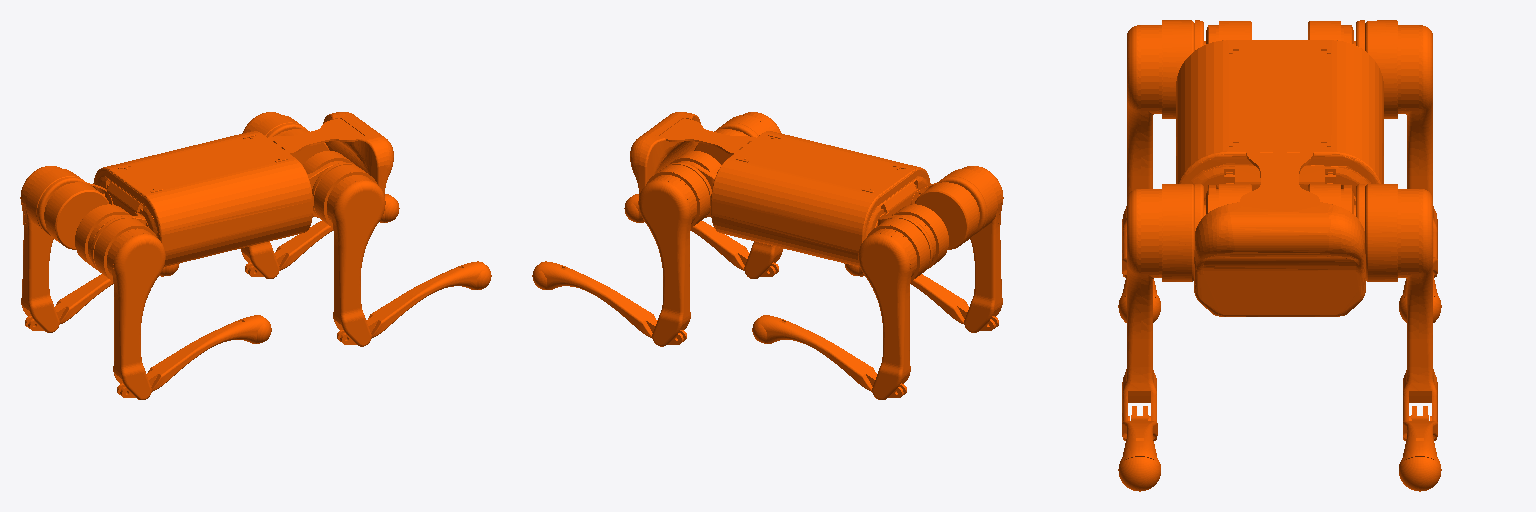
The robot description file, URDF, robot "a1":
<?xml version="1.0" encoding="utf-8"?>
<robot name="a1">
  <material name="black">
    <color rgba="0.0 0.0 0.0 1.0"/>
  </material>
  <material name="blue">
    <color rgba="0.0 0.0 0.8 1.0"/>
  </material>
  <material name="green">
    <color rgba="0.0 0.8 0.0 1.0"/>
  </material>
  <material name="grey">
    <color rgba="0.2 0.2 0.2 1.0"/>
  </material>
  <material name="silver">
    <color rgba="0.913725490196 0.913725490196 0.847058823529 1.0"/>
  </material>
  <material name="orange">
    <color rgba="1.0 0.423529411765 0.0392156862745 1.0"/>
  </material>
  <material name="brown">
    <color rgba="0.870588235294 0.811764705882 0.764705882353 1.0"/>
  </material>
  <material name="red">
    <color rgba="0.8 0.0 0.0 1.0"/>
  </material>
  <material name="white">
    <color rgba="1.0 1.0 1.0 1.0"/>
  </material>
  <link name="base">
    <visual>
      <origin rpy="0 0 0" xyz="0 0 0"/>
      <geometry>
        <box size="0.001 0.001 0.001"/>
      </geometry>
    </visual>
  </link>
  <joint name="floating_base" type="fixed">
    <origin rpy="0 0 0" xyz="0 0 0"/>
    <parent link="base"/>
    <child link="trunk"/>
  </joint>
  <link name="trunk">
    <visual>
      <origin rpy="0 0 0" xyz="0 0 0"/>
      <geometry>
        <mesh filename="trunk.stl" scale="1 1 1"/>
      </geometry>
      <material name="orange"/>
    </visual>
    <collision>
      <origin rpy="0 0 0" xyz="0 0 0"/>
      <geometry>
        <box size="0.267 0.194 0.114"/>
      </geometry>
    </collision>
    <inertial>
      <origin rpy="0 0 0" xyz="0.0 0.0041 -0.0005"/>
      <mass value="6.0"/>
      <inertia ixx="0.0158533" ixy="-3.66e-05" ixz="-6.11e-05" iyy="0.0377999" iyz="-2.75e-05" izz="0.0456542"/>
    </inertial>
  </link>
  <joint name="imu_joint" type="fixed">
    <parent link="trunk"/>
    <child link="imu_link"/>
    <origin rpy="0 0 0" xyz="0 0 0"/>
  </joint>
  <link name="imu_link">
    <inertial>
      <mass value="0.001"/>
      <origin rpy="0 0 0" xyz="0 0 0"/>
      <inertia ixx="0.0001" ixy="0" ixz="0" iyy="0.0001" iyz="0" izz="0.0001"/>
    </inertial>
    <visual>
      <origin rpy="0 0 0" xyz="0 0 0"/>
      <geometry>
        <box size="0.001 0.001 0.001"/>
      </geometry>
      <material name="red"/>
    </visual>
    <collision>
      <origin rpy="0 0 0" xyz="0 0 0"/>
      <geometry>
        <box size=".001 .001 .001"/>
      </geometry>
    </collision>
  </link>
  <joint name="FR_hip_joint" type="revolute">
    <origin rpy="0 0 0" xyz="0.1805 -0.047 0"/>
    <parent link="trunk"/>
    <child link="FR_hip"/>
    <axis xyz="1 0 0"/>
    <dynamics damping="0.01" friction="0.2"/>
    <limit effort="33.5" lower="-0.802851455917" upper="0.802851455917" velocity="21"/>
  </joint>
  <link name="FR_hip">
    <visual>
      <origin rpy="3.14159265359 0 0" xyz="0 0 0"/>
      <geometry>
        <mesh filename="hip.stl" scale="1 1 1"/>
      </geometry>
      <material name="orange"/>
    </visual>
    <collision>
      <origin rpy="1.57079632679 0 0" xyz="0 0 0"/>
      <geometry>
        <cylinder length="0.04" radius="0.046"/>
      </geometry>
    </collision>
    <inertial>
      <origin rpy="0 0 0" xyz="-0.003311 -0.000635 3.1e-05"/>
      <mass value="0.696"/>
      <inertia ixx="0.000469246" ixy="9.409e-06" ixz="-3.42e-07" iyy="0.00080749" iyz="4.66e-07" izz="0.000552929"/>
    </inertial>
  </link>
  <joint name="FR_hip_fixed" type="fixed">
    <origin rpy="0 0 0" xyz="0 -0.081 0"/>
    <parent link="FR_hip"/>
    <child link="FR_thigh_shoulder"/>
  </joint>
  <!-- this link is only for collision -->
  <link name="FR_thigh_shoulder">
    <collision>
      <origin rpy="1.57079632679 0 0" xyz="0 0 0"/>
      <geometry>
        <cylinder length="0.032" radius="0.041"/>
      </geometry>
    </collision>
  </link>
  <joint name="FR_thigh_joint" type="revolute">
    <origin rpy="0 0 0" xyz="0 -0.0838 0"/>
    <parent link="FR_hip"/>
    <child link="FR_thigh"/>
    <axis xyz="0 1 0"/>
    <dynamics damping="0.01" friction="0.2"/>
    <limit effort="33.5" lower="-1.0471975512" upper="4.18879020479" velocity="21"/>
  </joint>
  <link name="FR_thigh">
    <visual>
      <origin rpy="0 0 0" xyz="0 0 0"/>
      <geometry>
        <mesh filename="thigh_mirror.stl" scale="1 1 1"/>
      </geometry>
      <material name="orange"/>
    </visual>
    <collision>
      <origin rpy="0 1.57079632679 0" xyz="0 0 -0.1"/>
      <geometry>
        <box size="0.2 0.0245 0.034"/>
      </geometry>
    </collision>
    <inertial>
      <origin rpy="0 0 0" xyz="-0.003237 0.022327 -0.027326"/>
      <mass value="1.013"/>
      <inertia ixx="0.005529065" ixy="-4.825e-06" ixz="0.000343869" iyy="0.005139339" iyz="-2.2448e-05" izz="0.001367788"/>
    </inertial>
  </link>
  <joint name="FR_calf_joint" type="revolute">
    <origin rpy="0 0 0" xyz="0 0 -0.2"/>
    <parent link="FR_thigh"/>
    <child link="FR_calf"/>
    <axis xyz="0 1 0"/>
    <dynamics damping="0.01" friction="0.2"/>
    <limit effort="33.5" lower="-2.69653369433" upper="-0.916297857297" velocity="21"/>
  </joint>
  <link name="FR_calf">
    <visual>
      <origin rpy="0 0 0" xyz="0 0 0"/>
      <geometry>
        <mesh filename="calf.stl" scale="1 1 1"/>
      </geometry>
      <material name="orange"/>
    </visual>
    <collision>
      <origin rpy="0 1.57079632679 0" xyz="0 0 -0.1"/>
      <geometry>
        <box size="0.2 0.016 0.016"/>
      </geometry>
    </collision>
    <inertial>
      <origin rpy="0 0 0" xyz="0.006435 0.0 -0.107388"/>
      <mass value="0.166"/>
      <inertia ixx="0.002997972" ixy="0.0" ixz="-0.000141163" iyy="0.003014022" iyz="0.0" izz="3.2426e-05"/>
    </inertial>
  </link>
  <joint name="FR_foot_fixed" type="fixed">
    <origin rpy="0 0 0" xyz="0 0 -0.2"/>
    <parent link="FR_calf"/>
    <child link="FR_foot"/>
  </joint>
  <link name="FR_foot">
    <visual>
      <origin rpy="0 0 0" xyz="0 0 0"/>
      <geometry>
        <sphere radius="0.01"/>
      </geometry>
      <material name="orange"/>
    </visual>
    <collision>
      <origin rpy="0 0 0" xyz="0 0 0"/>
      <geometry>
        <sphere radius="0.02"/>
      </geometry>
    </collision>
    <inertial>
      <mass value="0.06"/>
      <inertia ixx="9.6e-06" ixy="0.0" ixz="0.0" iyy="9.6e-06" iyz="0.0" izz="9.6e-06"/>
    </inertial>
  </link>
  <transmission name="FR_hip_tran">
    <type>transmission_interface/SimpleTransmission</type>
    <joint name="FR_hip_joint">
      <hardwareInterface>hardware_interface/EffortJointInterface</hardwareInterface>
    </joint>
    <actuator name="FR_hip_motor">
      <hardwareInterface>hardware_interface/EffortJointInterface</hardwareInterface>
      <mechanicalReduction>1</mechanicalReduction>
    </actuator>
  </transmission>
  <transmission name="FR_thigh_tran">
    <type>transmission_interface/SimpleTransmission</type>
    <joint name="FR_thigh_joint">
      <hardwareInterface>hardware_interface/EffortJointInterface</hardwareInterface>
    </joint>
    <actuator name="FR_thigh_motor">
      <hardwareInterface>hardware_interface/EffortJointInterface</hardwareInterface>
      <mechanicalReduction>1</mechanicalReduction>
    </actuator>
  </transmission>
  <transmission name="FR_calf_tran">
    <type>transmission_interface/SimpleTransmission</type>
    <joint name="FR_calf_joint">
      <hardwareInterface>hardware_interface/EffortJointInterface</hardwareInterface>
    </joint>
    <actuator name="FR_calf_motor">
      <hardwareInterface>hardware_interface/EffortJointInterface</hardwareInterface>
      <mechanicalReduction>1</mechanicalReduction>
    </actuator>
  </transmission>
  <joint name="FL_hip_joint" type="revolute">
    <origin rpy="0 0 0" xyz="0.1805 0.047 0"/>
    <parent link="trunk"/>
    <child link="FL_hip"/>
    <axis xyz="1 0 0"/>
    <dynamics damping="0.01" friction="0.2"/>
    <limit effort="33.5" lower="-0.802851455917" upper="0.802851455917" velocity="21"/>
  </joint>
  <link name="FL_hip">
    <visual>
      <origin rpy="0 0 0" xyz="0 0 0"/>
      <geometry>
        <mesh filename="hip.stl" scale="1 1 1"/>
      </geometry>
      <material name="orange"/>
    </visual>
    <collision>
      <origin rpy="1.57079632679 0 0" xyz="0 0 0"/>
      <geometry>
        <cylinder length="0.04" radius="0.046"/>
      </geometry>
    </collision>
    <inertial>
      <origin rpy="0 0 0" xyz="-0.003311 0.000635 3.1e-05"/>
      <mass value="0.696"/>
      <inertia ixx="0.000469246" ixy="-9.409e-06" ixz="-3.42e-07" iyy="0.00080749" iyz="-4.66e-07" izz="0.000552929"/>
    </inertial>
  </link>
  <joint name="FL_hip_fixed" type="fixed">
    <origin rpy="0 0 0" xyz="0 0.081 0"/>
    <parent link="FL_hip"/>
    <child link="FL_thigh_shoulder"/>
  </joint>
  <!-- this link is only for collision -->
  <link name="FL_thigh_shoulder">
    <collision>
      <origin rpy="1.57079632679 0 0" xyz="0 0 0"/>
      <geometry>
        <cylinder length="0.032" radius="0.041"/>
      </geometry>
    </collision>
  </link>
  <joint name="FL_thigh_joint" type="revolute">
    <origin rpy="0 0 0" xyz="0 0.0838 0"/>
    <parent link="FL_hip"/>
    <child link="FL_thigh"/>
    <axis xyz="0 1 0"/>
    <dynamics damping="0.01" friction="0.2"/>
    <limit effort="33.5" lower="-1.0471975512" upper="4.18879020479" velocity="21"/>
  </joint>
  <link name="FL_thigh">
    <visual>
      <origin rpy="0 0 0" xyz="0 0 0"/>
      <geometry>
        <mesh filename="thigh.stl" scale="1 1 1"/>
      </geometry>
      <material name="orange"/>
    </visual>
    <collision>
      <origin rpy="0 1.57079632679 0" xyz="0 0 -0.1"/>
      <geometry>
        <box size="0.2 0.0245 0.034"/>
      </geometry>
    </collision>
    <inertial>
      <origin rpy="0 0 0" xyz="-0.003237 -0.022327 -0.027326"/>
      <mass value="1.013"/>
      <inertia ixx="0.005529065" ixy="4.825e-06" ixz="0.000343869" iyy="0.005139339" iyz="2.2448e-05" izz="0.001367788"/>
    </inertial>
  </link>
  <joint name="FL_calf_joint" type="revolute">
    <origin rpy="0 0 0" xyz="0 0 -0.2"/>
    <parent link="FL_thigh"/>
    <child link="FL_calf"/>
    <axis xyz="0 1 0"/>
    <dynamics damping="0.01" friction="0.2"/>
    <limit effort="33.5" lower="-2.69653369433" upper="-0.916297857297" velocity="21"/>
  </joint>
  <link name="FL_calf">
    <visual>
      <origin rpy="0 0 0" xyz="0 0 0"/>
      <geometry>
        <mesh filename="calf.stl" scale="1 1 1"/>
      </geometry>
      <material name="orange"/>
    </visual>
    <collision>
      <origin rpy="0 1.57079632679 0" xyz="0 0 -0.1"/>
      <geometry>
        <box size="0.2 0.016 0.016"/>
      </geometry>
    </collision>
    <inertial>
      <origin rpy="0 0 0" xyz="0.006435 0.0 -0.107388"/>
      <mass value="0.166"/>
      <inertia ixx="0.002997972" ixy="0.0" ixz="-0.000141163" iyy="0.003014022" iyz="0.0" izz="3.2426e-05"/>
    </inertial>
  </link>
  <joint name="FL_foot_fixed" type="fixed">
    <origin rpy="0 0 0" xyz="0 0 -0.2"/>
    <parent link="FL_calf"/>
    <child link="FL_foot"/>
  </joint>
  <link name="FL_foot">
    <visual>
      <origin rpy="0 0 0" xyz="0 0 0"/>
      <geometry>
        <sphere radius="0.01"/>
      </geometry>
      <material name="orange"/>
    </visual>
    <collision>
      <origin rpy="0 0 0" xyz="0 0 0"/>
      <geometry>
        <sphere radius="0.02"/>
      </geometry>
    </collision>
    <inertial>
      <mass value="0.06"/>
      <inertia ixx="9.6e-06" ixy="0.0" ixz="0.0" iyy="9.6e-06" iyz="0.0" izz="9.6e-06"/>
    </inertial>
  </link>
  <transmission name="FL_hip_tran">
    <type>transmission_interface/SimpleTransmission</type>
    <joint name="FL_hip_joint">
      <hardwareInterface>hardware_interface/EffortJointInterface</hardwareInterface>
    </joint>
    <actuator name="FL_hip_motor">
      <hardwareInterface>hardware_interface/EffortJointInterface</hardwareInterface>
      <mechanicalReduction>1</mechanicalReduction>
    </actuator>
  </transmission>
  <transmission name="FL_thigh_tran">
    <type>transmission_interface/SimpleTransmission</type>
    <joint name="FL_thigh_joint">
      <hardwareInterface>hardware_interface/EffortJointInterface</hardwareInterface>
    </joint>
    <actuator name="FL_thigh_motor">
      <hardwareInterface>hardware_interface/EffortJointInterface</hardwareInterface>
      <mechanicalReduction>1</mechanicalReduction>
    </actuator>
  </transmission>
  <transmission name="FL_calf_tran">
    <type>transmission_interface/SimpleTransmission</type>
    <joint name="FL_calf_joint">
      <hardwareInterface>hardware_interface/EffortJointInterface</hardwareInterface>
    </joint>
    <actuator name="FL_calf_motor">
      <hardwareInterface>hardware_interface/EffortJointInterface</hardwareInterface>
      <mechanicalReduction>1</mechanicalReduction>
    </actuator>
  </transmission>
  <joint name="RR_hip_joint" type="revolute">
    <origin rpy="0 0 0" xyz="-0.1805 -0.047 0"/>
    <parent link="trunk"/>
    <child link="RR_hip"/>
    <axis xyz="1 0 0"/>
    <dynamics damping="0.01" friction="0.2"/>
    <limit effort="33.5" lower="-0.802851455917" upper="0.802851455917" velocity="21"/>
  </joint>
  <link name="RR_hip">
    <visual>
      <origin rpy="3.14159265359 3.14159265359 0" xyz="0 0 0"/>
      <geometry>
        <mesh filename="hip.stl" scale="1 1 1"/>
      </geometry>
      <material name="orange"/>
    </visual>
    <collision>
      <origin rpy="1.57079632679 0 0" xyz="0 0 0"/>
      <geometry>
        <cylinder length="0.04" radius="0.046"/>
      </geometry>
    </collision>
    <inertial>
      <origin rpy="0 0 0" xyz="0.003311 -0.000635 3.1e-05"/>
      <mass value="0.696"/>
      <inertia ixx="0.000469246" ixy="-9.409e-06" ixz="3.42e-07" iyy="0.00080749" iyz="4.66e-07" izz="0.000552929"/>
    </inertial>
  </link>
  <joint name="RR_hip_fixed" type="fixed">
    <origin rpy="0 0 0" xyz="0 -0.081 0"/>
    <parent link="RR_hip"/>
    <child link="RR_thigh_shoulder"/>
  </joint>
  <!-- this link is only for collision -->
  <link name="RR_thigh_shoulder">
    <collision>
      <origin rpy="1.57079632679 0 0" xyz="0 0 0"/>
      <geometry>
        <cylinder length="0.032" radius="0.041"/>
      </geometry>
    </collision>
  </link>
  <joint name="RR_thigh_joint" type="revolute">
    <origin rpy="0 0 0" xyz="0 -0.0838 0"/>
    <parent link="RR_hip"/>
    <child link="RR_thigh"/>
    <axis xyz="0 1 0"/>
    <dynamics damping="0.01" friction="0.2"/>
    <limit effort="33.5" lower="-1.0471975512" upper="4.18879020479" velocity="21"/>
  </joint>
  <link name="RR_thigh">
    <visual>
      <origin rpy="0 0 0" xyz="0 0 0"/>
      <geometry>
        <mesh filename="thigh_mirror.stl" scale="1 1 1"/>
      </geometry>
      <material name="orange"/>
    </visual>
    <collision>
      <origin rpy="0 1.57079632679 0" xyz="0 0 -0.1"/>
      <geometry>
        <box size="0.2 0.0245 0.034"/>
      </geometry>
    </collision>
    <inertial>
      <origin rpy="0 0 0" xyz="-0.003237 0.022327 -0.027326"/>
      <mass value="1.013"/>
      <inertia ixx="0.005529065" ixy="-4.825e-06" ixz="0.000343869" iyy="0.005139339" iyz="-2.2448e-05" izz="0.001367788"/>
    </inertial>
  </link>
  <joint name="RR_calf_joint" type="revolute">
    <origin rpy="0 0 0" xyz="0 0 -0.2"/>
    <parent link="RR_thigh"/>
    <child link="RR_calf"/>
    <axis xyz="0 1 0"/>
    <dynamics damping="0.01" friction="0.2"/>
    <limit effort="33.5" lower="-2.69653369433" upper="-0.916297857297" velocity="21"/>
  </joint>
  <link name="RR_calf">
    <visual>
      <origin rpy="0 0 0" xyz="0 0 0"/>
      <geometry>
        <mesh filename="calf.stl" scale="1 1 1"/>
      </geometry>
      <material name="orange"/>
    </visual>
    <collision>
      <origin rpy="0 1.57079632679 0" xyz="0 0 -0.1"/>
      <geometry>
        <box size="0.2 0.016 0.016"/>
      </geometry>
    </collision>
    <inertial>
      <origin rpy="0 0 0" xyz="0.006435 0.0 -0.107388"/>
      <mass value="0.166"/>
      <inertia ixx="0.002997972" ixy="0.0" ixz="-0.000141163" iyy="0.003014022" iyz="0.0" izz="3.2426e-05"/>
    </inertial>
  </link>
  <joint name="RR_foot_fixed" type="fixed">
    <origin rpy="0 0 0" xyz="0 0 -0.2"/>
    <parent link="RR_calf"/>
    <child link="RR_foot"/>
  </joint>
  <link name="RR_foot">
    <visual>
      <origin rpy="0 0 0" xyz="0 0 0"/>
      <geometry>
        <sphere radius="0.01"/>
      </geometry>
      <material name="orange"/>
    </visual>
    <collision>
      <origin rpy="0 0 0" xyz="0 0 0"/>
      <geometry>
        <sphere radius="0.02"/>
      </geometry>
    </collision>
    <inertial>
      <mass value="0.06"/>
      <inertia ixx="9.6e-06" ixy="0.0" ixz="0.0" iyy="9.6e-06" iyz="0.0" izz="9.6e-06"/>
    </inertial>
  </link>
  <transmission name="RR_hip_tran">
    <type>transmission_interface/SimpleTransmission</type>
    <joint name="RR_hip_joint">
      <hardwareInterface>hardware_interface/EffortJointInterface</hardwareInterface>
    </joint>
    <actuator name="RR_hip_motor">
      <hardwareInterface>hardware_interface/EffortJointInterface</hardwareInterface>
      <mechanicalReduction>1</mechanicalReduction>
    </actuator>
  </transmission>
  <transmission name="RR_thigh_tran">
    <type>transmission_interface/SimpleTransmission</type>
    <joint name="RR_thigh_joint">
      <hardwareInterface>hardware_interface/EffortJointInterface</hardwareInterface>
    </joint>
    <actuator name="RR_thigh_motor">
      <hardwareInterface>hardware_interface/EffortJointInterface</hardwareInterface>
      <mechanicalReduction>1</mechanicalReduction>
    </actuator>
  </transmission>
  <transmission name="RR_calf_tran">
    <type>transmission_interface/SimpleTransmission</type>
    <joint name="RR_calf_joint">
      <hardwareInterface>hardware_interface/EffortJointInterface</hardwareInterface>
    </joint>
    <actuator name="RR_calf_motor">
      <hardwareInterface>hardware_interface/EffortJointInterface</hardwareInterface>
      <mechanicalReduction>1</mechanicalReduction>
    </actuator>
  </transmission>
  <joint name="RL_hip_joint" type="revolute">
    <origin rpy="0 0 0" xyz="-0.1805 0.047 0"/>
    <parent link="trunk"/>
    <child link="RL_hip"/>
    <axis xyz="1 0 0"/>
    <dynamics damping="0.01" friction="0.2"/>
    <limit effort="33.5" lower="-0.802851455917" upper="0.802851455917" velocity="21"/>
  </joint>
  <link name="RL_hip">
    <visual>
      <origin rpy="0 3.14159265359 0" xyz="0 0 0"/>
      <geometry>
        <mesh filename="hip.stl" scale="1 1 1"/>
      </geometry>
      <material name="orange"/>
    </visual>
    <collision>
      <origin rpy="1.57079632679 0 0" xyz="0 0 0"/>
      <geometry>
        <cylinder length="0.04" radius="0.046"/>
      </geometry>
    </collision>
    <inertial>
      <origin rpy="0 0 0" xyz="0.003311 0.000635 3.1e-05"/>
      <mass value="0.696"/>
      <inertia ixx="0.000469246" ixy="9.409e-06" ixz="3.42e-07" iyy="0.00080749" iyz="-4.66e-07" izz="0.000552929"/>
    </inertial>
  </link>
  <joint name="RL_hip_fixed" type="fixed">
    <origin rpy="0 0 0" xyz="0 0.081 0"/>
    <parent link="RL_hip"/>
    <child link="RL_thigh_shoulder"/>
  </joint>
  <!-- this link is only for collision -->
  <link name="RL_thigh_shoulder">
    <collision>
      <origin rpy="1.57079632679 0 0" xyz="0 0 0"/>
      <geometry>
        <cylinder length="0.032" radius="0.041"/>
      </geometry>
    </collision>
  </link>
  <joint name="RL_thigh_joint" type="revolute">
    <origin rpy="0 0 0" xyz="0 0.0838 0"/>
    <parent link="RL_hip"/>
    <child link="RL_thigh"/>
    <axis xyz="0 1 0"/>
    <dynamics damping="0.01" friction="0.2"/>
    <limit effort="33.5" lower="-1.0471975512" upper="4.18879020479" velocity="21"/>
  </joint>
  <link name="RL_thigh">
    <visual>
      <origin rpy="0 0 0" xyz="0 0 0"/>
      <geometry>
        <mesh filename="thigh.stl" scale="1 1 1"/>
      </geometry>
      <material name="orange"/>
    </visual>
    <collision>
      <origin rpy="0 1.57079632679 0" xyz="0 0 -0.1"/>
      <geometry>
        <box size="0.2 0.0245 0.034"/>
      </geometry>
    </collision>
    <inertial>
      <origin rpy="0 0 0" xyz="-0.003237 -0.022327 -0.027326"/>
      <mass value="1.013"/>
      <inertia ixx="0.005529065" ixy="4.825e-06" ixz="0.000343869" iyy="0.005139339" iyz="2.2448e-05" izz="0.001367788"/>
    </inertial>
  </link>
  <joint name="RL_calf_joint" type="revolute">
    <origin rpy="0 0 0" xyz="0 0 -0.2"/>
    <parent link="RL_thigh"/>
    <child link="RL_calf"/>
    <axis xyz="0 1 0"/>
    <dynamics damping="0.01" friction="0.2"/>
    <limit effort="33.5" lower="-2.69653369433" upper="-0.916297857297" velocity="21"/>
  </joint>
  <link name="RL_calf">
    <visual>
      <origin rpy="0 0 0" xyz="0 0 0"/>
      <geometry>
        <mesh filename="calf.stl" scale="1 1 1"/>
      </geometry>
      <material name="orange"/>
    </visual>
    <collision>
      <origin rpy="0 1.57079632679 0" xyz="0 0 -0.1"/>
      <geometry>
        <box size="0.2 0.016 0.016"/>
      </geometry>
    </collision>
    <inertial>
      <origin rpy="0 0 0" xyz="0.006435 0.0 -0.107388"/>
      <mass value="0.166"/>
      <inertia ixx="0.002997972" ixy="0.0" ixz="-0.000141163" iyy="0.003014022" iyz="0.0" izz="3.2426e-05"/>
    </inertial>
  </link>
  <joint name="RL_foot_fixed" type="fixed">
    <origin rpy="0 0 0" xyz="0 0 -0.2"/>
    <parent link="RL_calf"/>
    <child link="RL_foot"/>
  </joint>
  <link name="RL_foot">
    <visual>
      <origin rpy="0 0 0" xyz="0 0 0"/>
      <geometry>
        <sphere radius="0.01"/>
      </geometry>
      <material name="orange"/>
    </visual>
    <collision>
      <origin rpy="0 0 0" xyz="0 0 0"/>
      <geometry>
        <sphere radius="0.02"/>
      </geometry>
    </collision>
    <inertial>
      <mass value="0.06"/>
      <inertia ixx="9.6e-06" ixy="0.0" ixz="0.0" iyy="9.6e-06" iyz="0.0" izz="9.6e-06"/>
    </inertial>
  </link>
  <transmission name="RL_hip_tran">
    <type>transmission_interface/SimpleTransmission</type>
    <joint name="RL_hip_joint">
      <hardwareInterface>hardware_interface/EffortJointInterface</hardwareInterface>
    </joint>
    <actuator name="RL_hip_motor">
      <hardwareInterface>hardware_interface/EffortJointInterface</hardwareInterface>
      <mechanicalReduction>1</mechanicalReduction>
    </actuator>
  </transmission>
  <transmission name="RL_thigh_tran">
    <type>transmission_interface/SimpleTransmission</type>
    <joint name="RL_thigh_joint">
      <hardwareInterface>hardware_interface/EffortJointInterface</hardwareInterface>
    </joint>
    <actuator name="RL_thigh_motor">
      <hardwareInterface>hardware_interface/EffortJointInterface</hardwareInterface>
      <mechanicalReduction>1</mechanicalReduction>
    </actuator>
  </transmission>
  <transmission name="RL_calf_tran">
    <type>transmission_interface/SimpleTransmission</type>
    <joint name="RL_calf_joint">
      <hardwareInterface>hardware_interface/EffortJointInterface</hardwareInterface>
    </joint>
    <actuator name="RL_calf_motor">
      <hardwareInterface>hardware_interface/EffortJointInterface</hardwareInterface>
      <mechanicalReduction>1</mechanicalReduction>
    </actuator>
  </transmission>
  <!-- <xacro:stairs stairs="15" xpos="0" ypos="2.0" zpos="0" /> -->
</robot>

--- Render facts (derived) ---
Views: 3 orthographic renders of the robot side by side, from view 1: azimuth 30°, elevation 25°; view 2: azimuth 150°, elevation 25°; view 3: azimuth 270°, elevation 25°.
Robot: a1 — 23 links, 22 joints (12 revolute, 10 fixed); root link base; default pose: all joints at 0 but 4 set to mid-range because 0 is outside their limits (FR_calf_joint = -1.81, FL_calf_joint = -1.81, RR_calf_joint = -1.81, RL_calf_joint = -1.81).
Links seen in each view (by area): view 1: trunk, RR_thigh, FR_thigh, RL_thigh, RR_calf, FR_calf, RL_hip, FL_thigh, FL_calf, RL_calf, RR_hip, FR_hip; view 2: trunk, RL_thigh, FL_thigh, RR_thigh, RL_calf, FL_calf, RR_hip, FR_thigh, FR_calf, RR_calf, RL_hip, FL_hip; view 3: trunk, FL_thigh, FR_thigh, RR_thigh, RL_thigh, FR_calf, FL_calf, FR_hip, FL_hip, RR_hip, RL_hip, RR_calf (+1 smaller).
Link boxes in pixels (<box>): trunk: <box>93,112,393,266</box>; RR_thigh: <box>91,216,165,399</box>; FR_thigh: <box>312,163,385,346</box>; RL_thigh: <box>20,166,86,332</box>; RR_calf: <box>117,315,271,397</box>; FR_calf: <box>337,261,491,344</box>; RL_hip: <box>44,182,113,249</box>; FL_thigh: <box>241,112,306,278</box>; FL_calf: <box>245,194,399,276</box>; RL_calf: <box>25,263,179,330</box>; RR_hip: <box>75,204,145,269</box>; FR_hip: <box>303,151,353,217</box>; trunk: <box>630,112,930,266</box>; RL_thigh: <box>858,216,932,399</box>; FL_thigh: <box>638,163,711,346</box>; RR_thigh: <box>937,166,1003,332</box>; RL_calf: <box>752,315,906,397</box>; FL_calf: <box>532,261,686,344</box>; RR_hip: <box>910,182,979,249</box>; FR_thigh: <box>717,112,782,278</box>; FR_calf: <box>624,194,778,276</box>; RR_calf: <box>844,263,998,330</box>; RL_hip: <box>878,204,948,268</box>; FL_hip: <box>670,151,720,217</box>; trunk: <box>1176,40,1383,316</box>; FL_thigh: <box>1354,184,1437,440</box>; FR_thigh: <box>1122,184,1205,440</box>; RR_thigh: <box>1122,20,1205,277</box>; RL_thigh: <box>1354,20,1437,277</box>; FR_calf: <box>1118,406,1160,491</box>; FL_calf: <box>1399,406,1441,491</box>; FR_hip: <box>1206,184,1251,213</box>; FL_hip: <box>1308,184,1353,213</box>; RR_hip: <box>1206,21,1251,43</box>; RL_hip: <box>1308,21,1353,43</box>; RR_calf: <box>1118,257,1160,322</box>.
Size in the robot's own frame: 0.6215 by 0.3016 by 0.272 metres.
13 mesh visuals loaded from 5 distinct referenced files (5 binary STL).